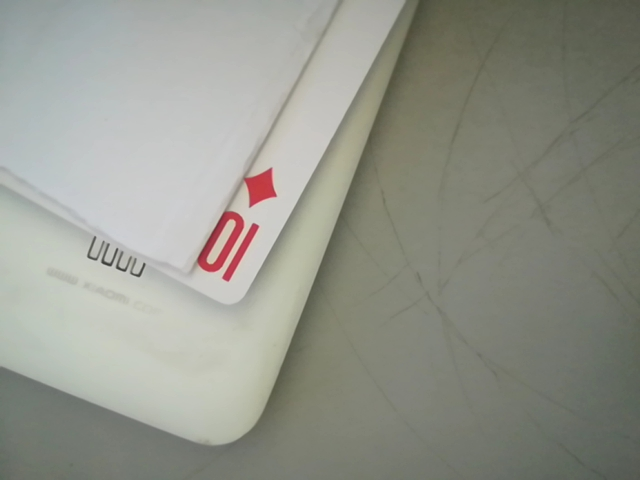fk 10: (186, 161, 296, 293)
